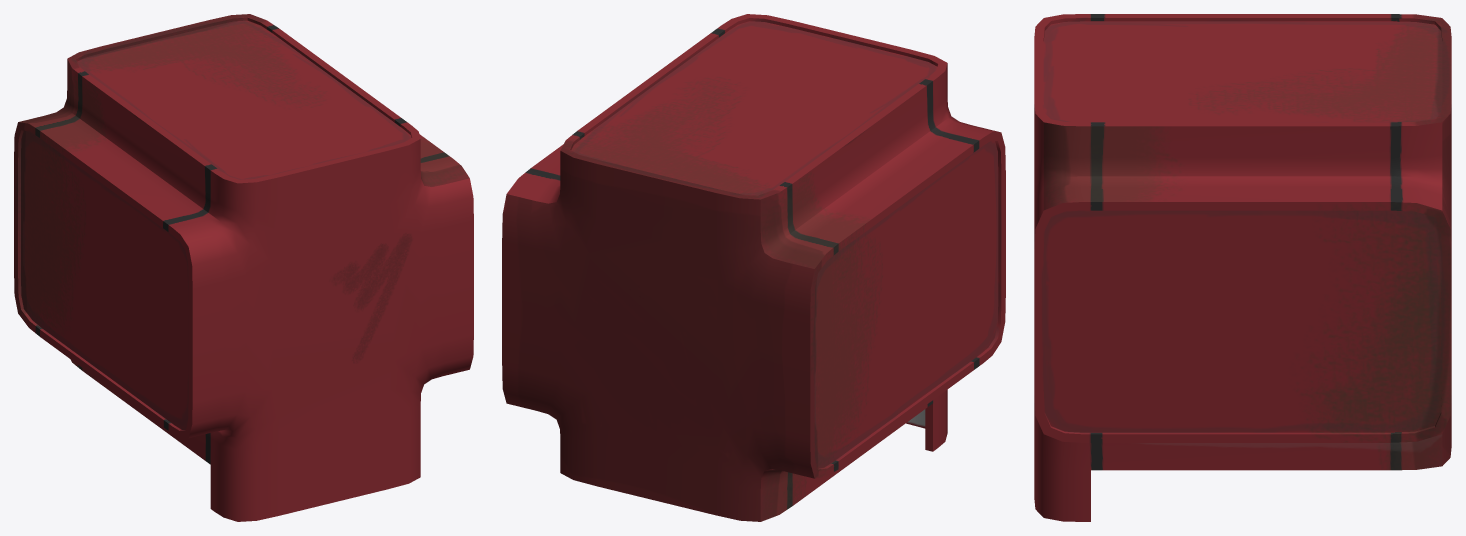
Rendered from kiosk-k67.fbx.
3 renders of one model, left to right at view 1: azimuth 30°, elevation 25°; view 2: azimuth 150°, elevation 25°; view 3: azimuth 270°, elevation 25°, orthographic. The views are drawn at different scales.
Visible parts, largest first — view 1: kiosk-k67_LOD0; view 2: kiosk-k67_LOD0; view 3: kiosk-k67_LOD0.
Part boxes in pixels (<box>): kiosk-k67_LOD0: <box>14,14,473,521</box>; kiosk-k67_LOD0: <box>502,14,1005,521</box>; kiosk-k67_LOD0: <box>1034,14,1451,521</box>.
Size of what is drawn, in the model's own units: 200 by 230 by 220.
